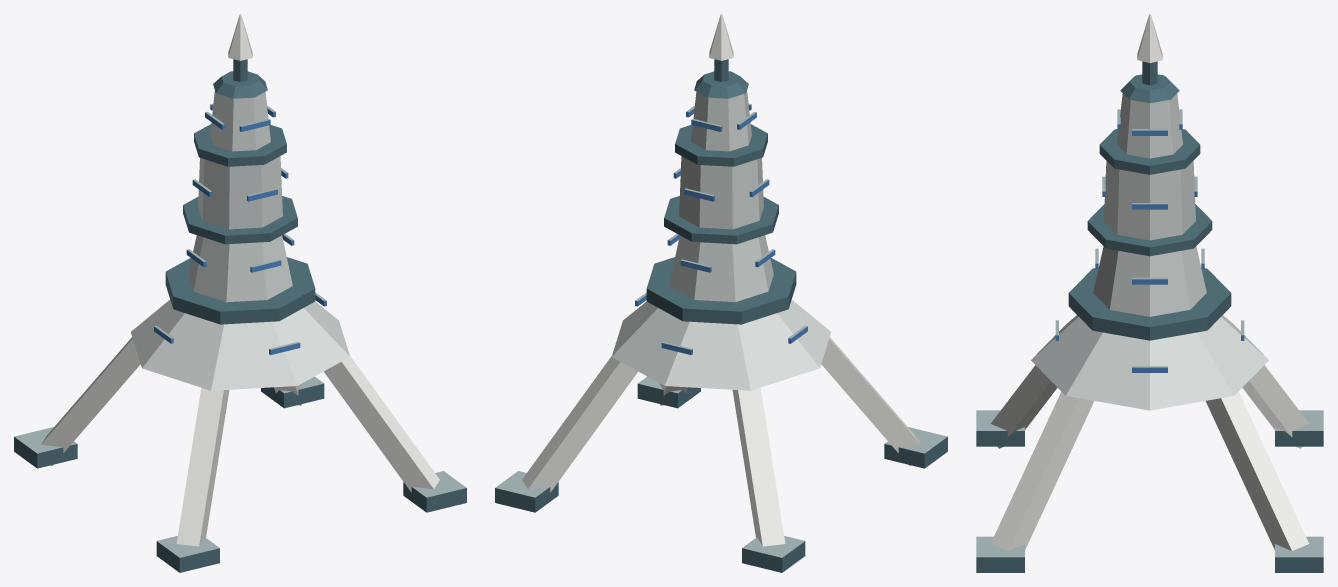
Rendered from SteppedTransmitter.obj.
The picture shows the model from 3 angles, left to right: view 1: azimuth 30°, elevation 25°; view 2: azimuth 150°, elevation 25°; view 3: azimuth 270°, elevation 25°; orthographic projection. The views are drawn at different scales.
Bounding box in the file's own units: 0.6415 × 1 × 0.6415.
